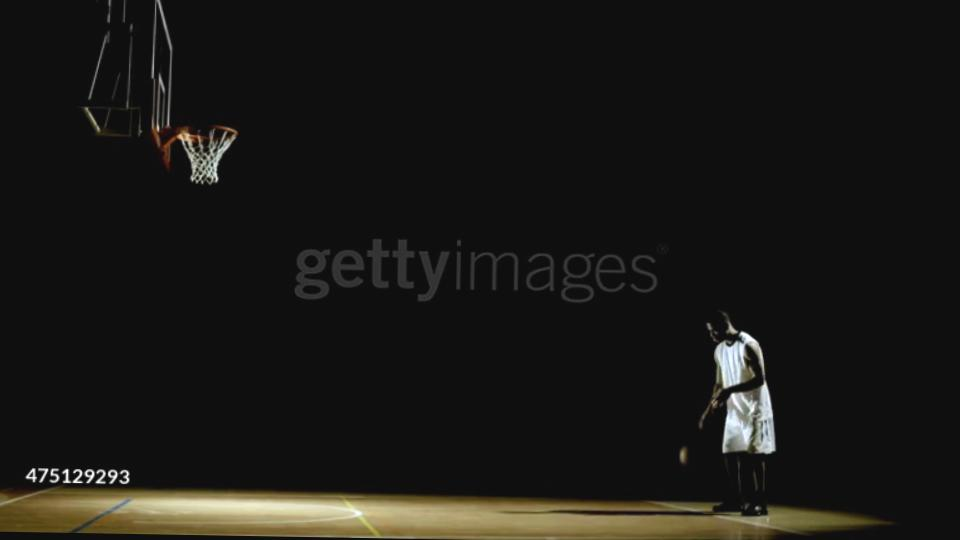hoop: (170, 122, 240, 151)
